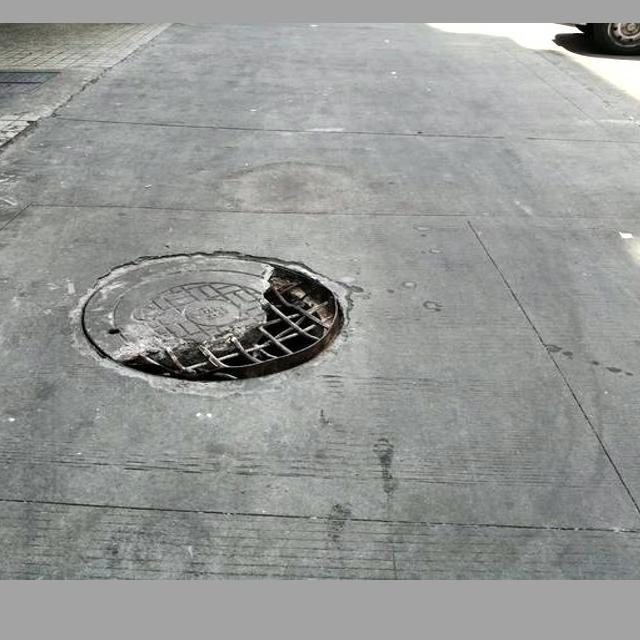broke: (28, 220, 397, 422)
